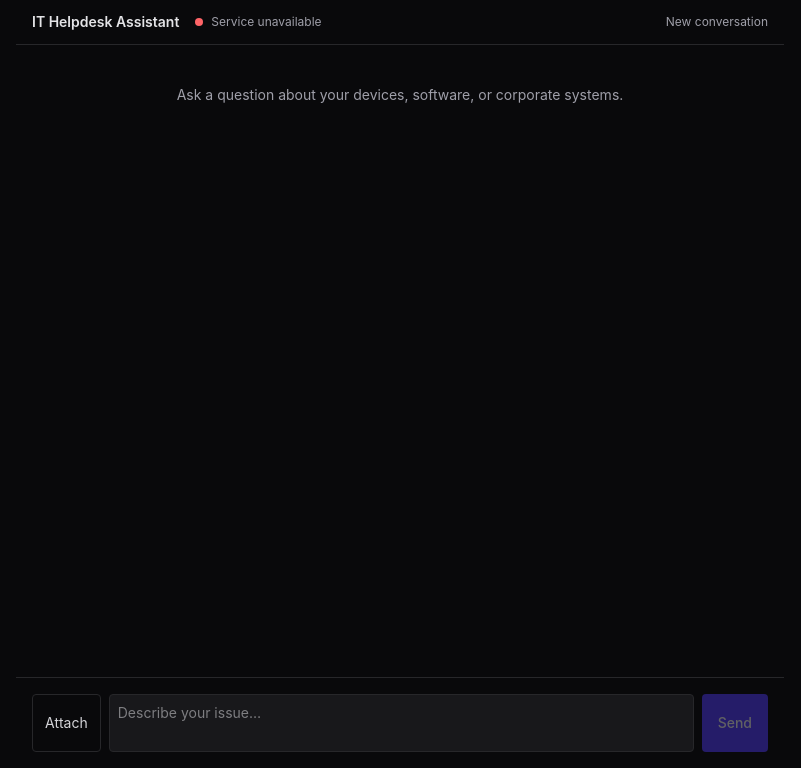
Test: App over SignalR › does not send after stopping during connection (connect resolves: true)
In the text box named "Message": [401, 723] box [109,694,694,752], type "question"
Then press Enter
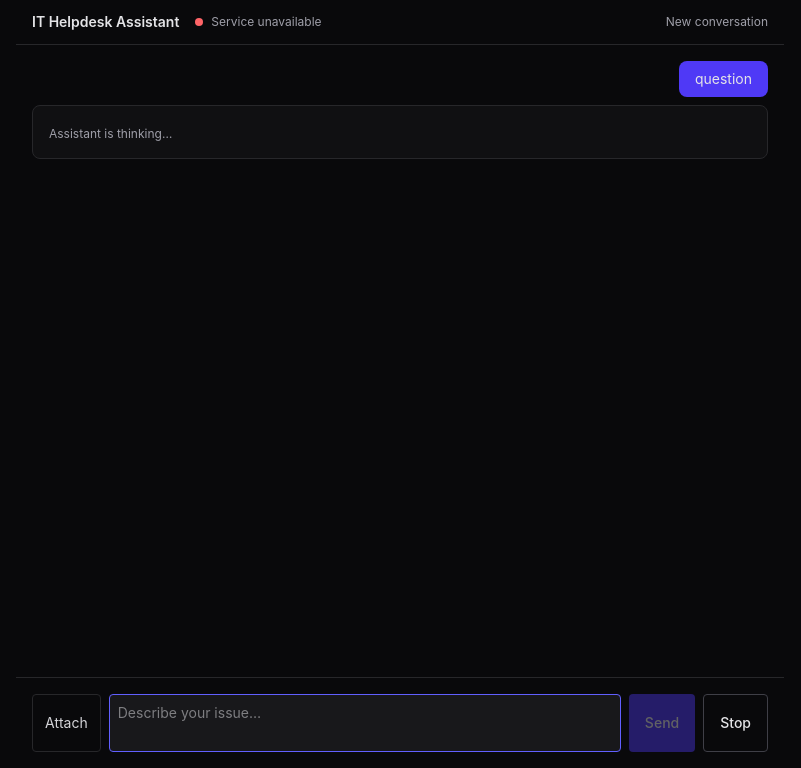
Click the button "Stop": [736, 723] box [703,694,768,752]
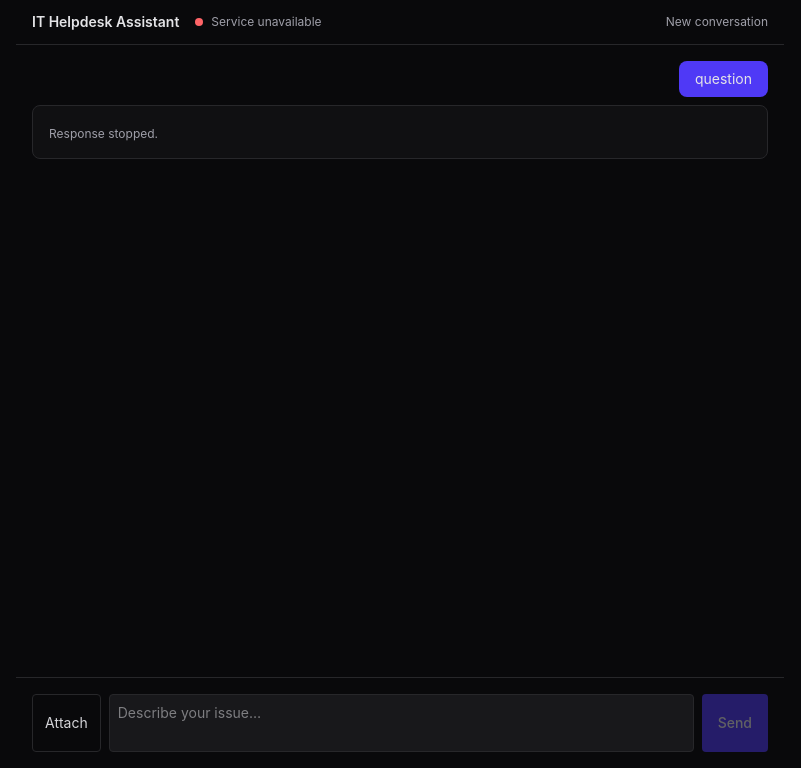
Expected: the text "Response stopped." is shown, [49,126,158,141]
